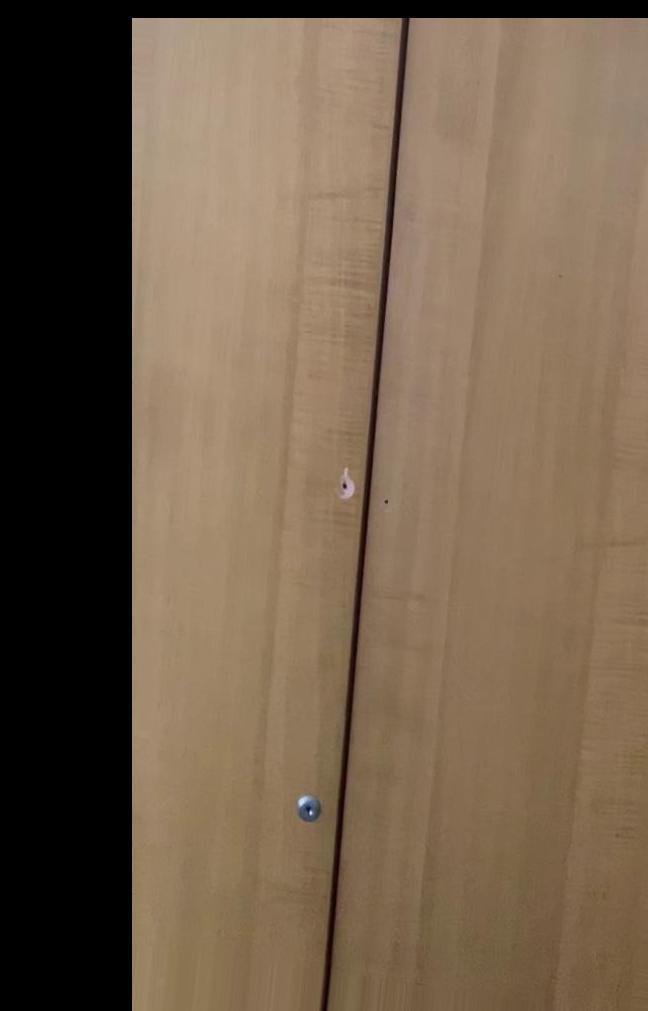Armario: (137, 22, 648, 1011)
